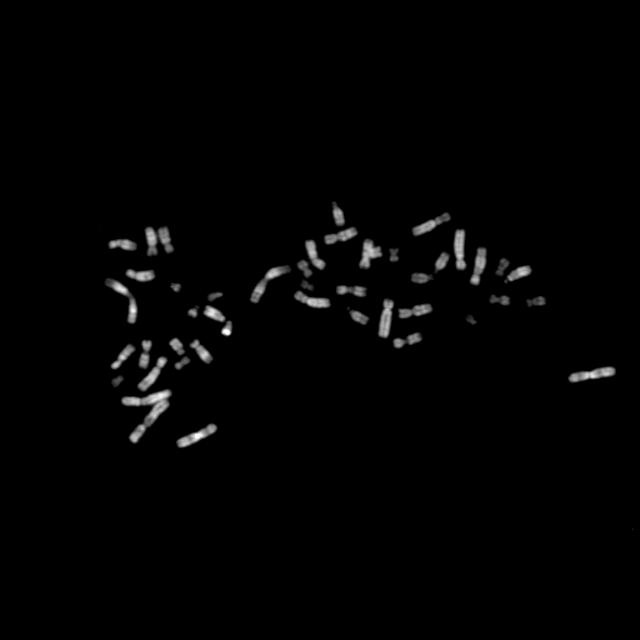chromosome: (130, 401, 168, 444), (105, 278, 138, 324), (252, 266, 290, 302), (138, 357, 167, 391), (178, 424, 218, 448), (412, 212, 450, 236), (122, 390, 173, 406), (294, 290, 330, 308), (378, 298, 394, 338), (570, 367, 614, 381), (470, 248, 486, 286), (305, 240, 325, 270), (325, 226, 357, 244), (111, 345, 134, 369), (190, 340, 212, 364), (454, 229, 466, 269), (392, 332, 422, 348), (398, 304, 432, 318), (506, 265, 532, 281), (158, 227, 174, 253), (128, 268, 154, 282), (360, 239, 372, 269), (204, 306, 226, 322), (109, 238, 137, 250), (139, 340, 151, 368), (146, 228, 157, 256), (336, 286, 366, 296), (411, 272, 434, 284), (333, 202, 345, 225), (170, 338, 185, 356), (349, 310, 368, 324), (435, 253, 449, 271), (496, 258, 509, 276), (489, 294, 508, 306), (298, 260, 312, 276), (526, 297, 546, 307), (175, 356, 190, 369), (366, 246, 382, 258), (222, 320, 232, 336), (389, 247, 399, 261), (208, 292, 222, 302), (301, 281, 313, 291), (112, 376, 123, 386), (188, 306, 197, 318), (466, 316, 476, 326), (170, 283, 180, 293)
